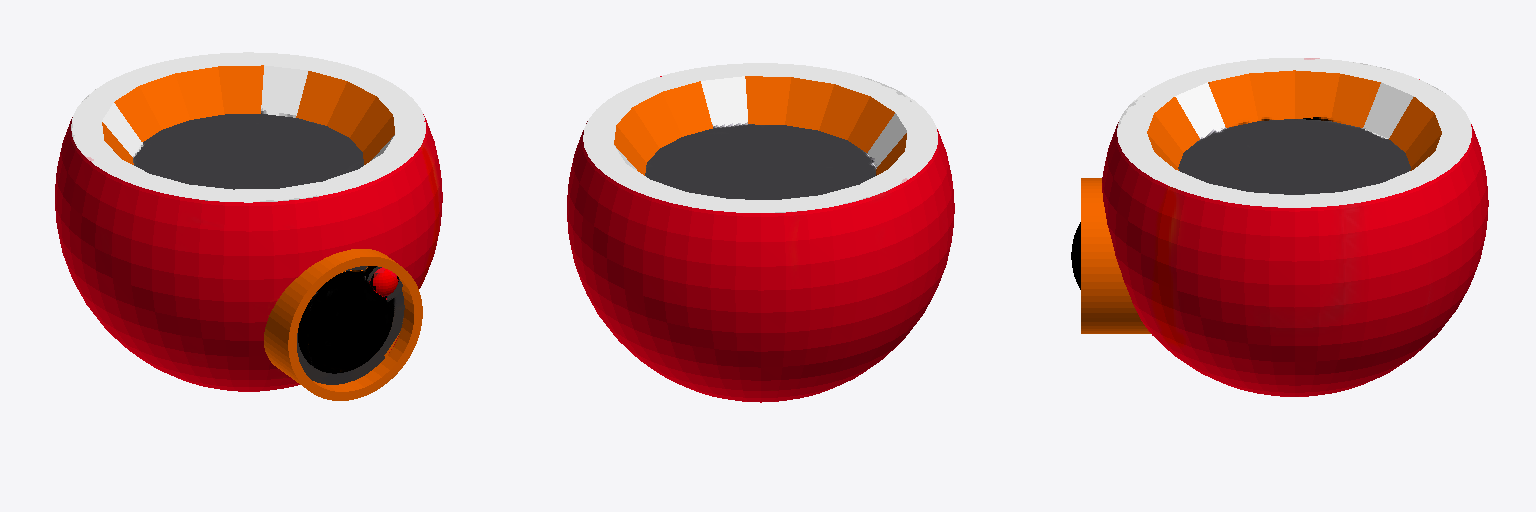
The picture shows the model from 3 angles: view 1: azimuth 30°, elevation 25°; view 2: azimuth 150°, elevation 25°; view 3: azimuth 270°, elevation 25°; orthographic projection.
Parts seen in each view (by area): view 1: obj_0; view 2: obj_0; view 3: obj_0.
Boxes of the visible parts, <box> form: obj_0: <box>55,52,442,400</box>; obj_0: <box>567,63,954,402</box>; obj_0: <box>1071,58,1488,396</box>.
Bounding box in the file's own units: 0.3173 × 0.2221 × 0.3411.
Materials: 1 (1 with a texture image).